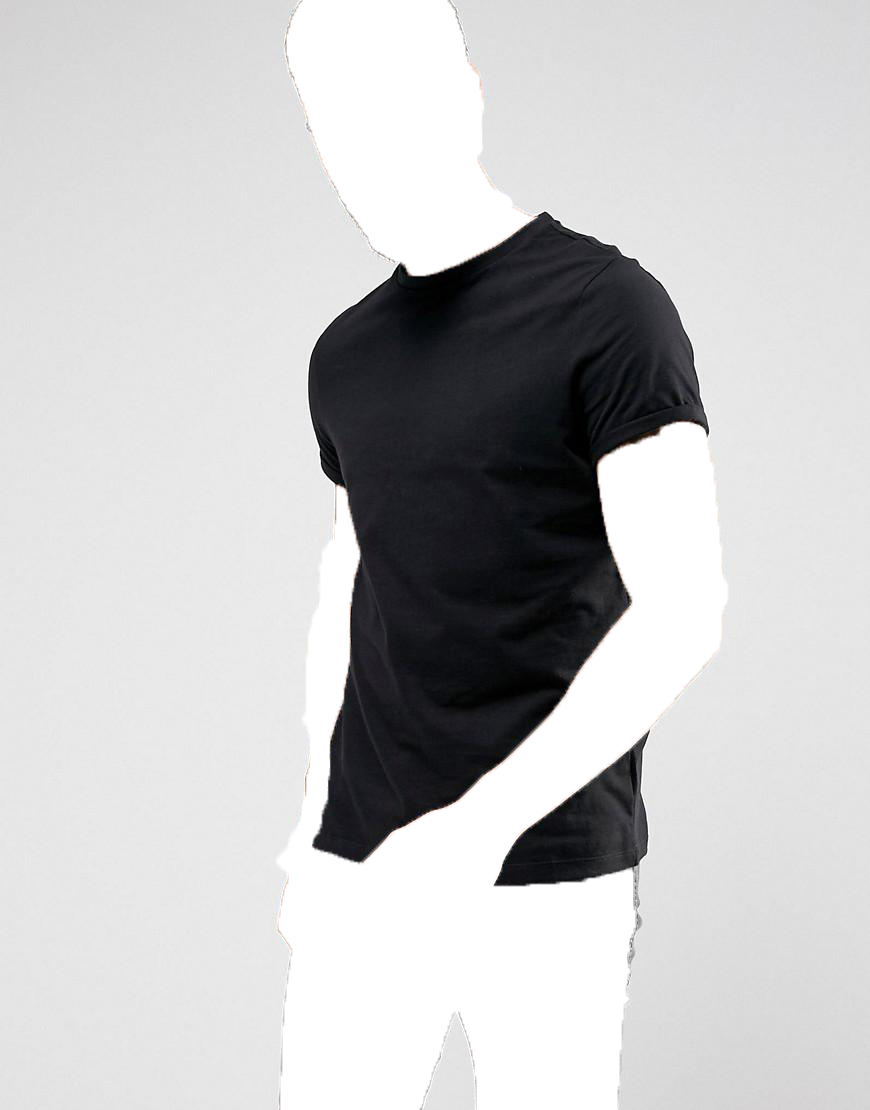teeshirt: (293, 207, 712, 890)
